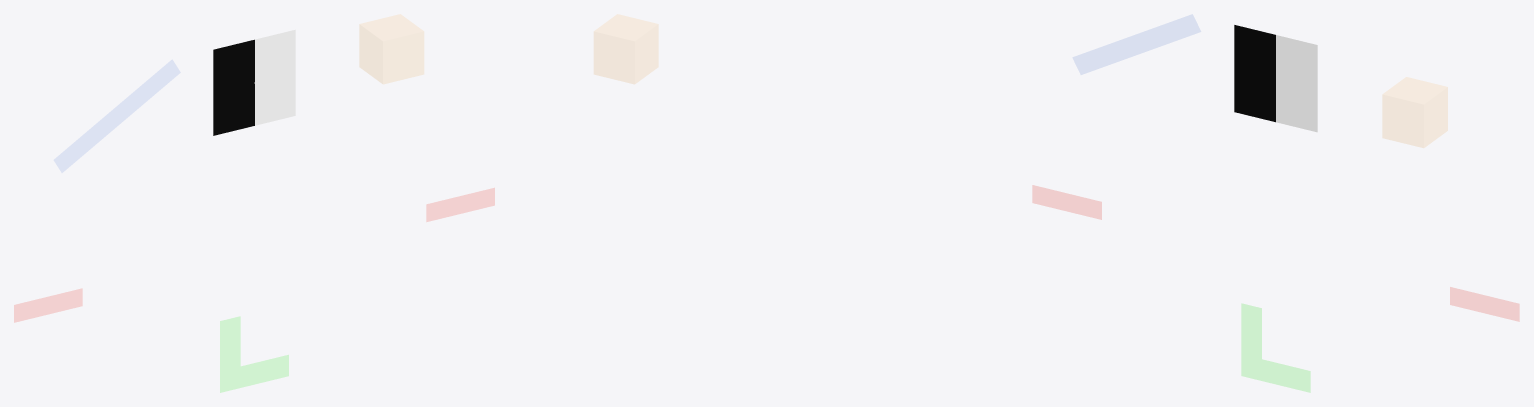
Rendered from emissive_fixture.gltf.
3 renders of one model, left to right at view 1: azimuth 30°, elevation 25°; view 2: azimuth 150°, elevation 25°; view 3: azimuth 330°, elevation 25°, orthographic.
Visible parts, largest first — view 1: emissive_quad, emissive_box, emissive_ell, emissive_split, emissive_strip; view 2: emissive_box; view 3: emissive_quad, emissive_box, emissive_ell, emissive_split, emissive_strip.
Part boxes in pixels (bbox=[...]): emissive_quad: bbox=[213, 29, 295, 135]; emissive_box: bbox=[359, 14, 424, 84]; emissive_ell: bbox=[220, 316, 288, 392]; emissive_split: bbox=[14, 187, 494, 322]; emissive_strip: bbox=[53, 59, 180, 172]; emissive_box: bbox=[593, 14, 658, 84]; emissive_quad: bbox=[1234, 25, 1317, 132]; emissive_box: bbox=[1382, 77, 1447, 148]; emissive_ell: bbox=[1241, 303, 1310, 392]; emissive_split: bbox=[1032, 185, 1519, 321]; emissive_strip: bbox=[1072, 14, 1201, 74].
Bounding box in the file's own units: 7 × 4.81 × 0.6.
5 materials, 1 textured.
